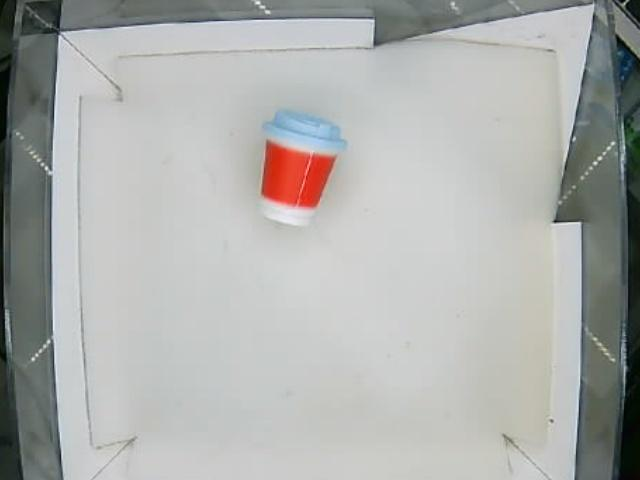Cup: (259, 112, 347, 228)
